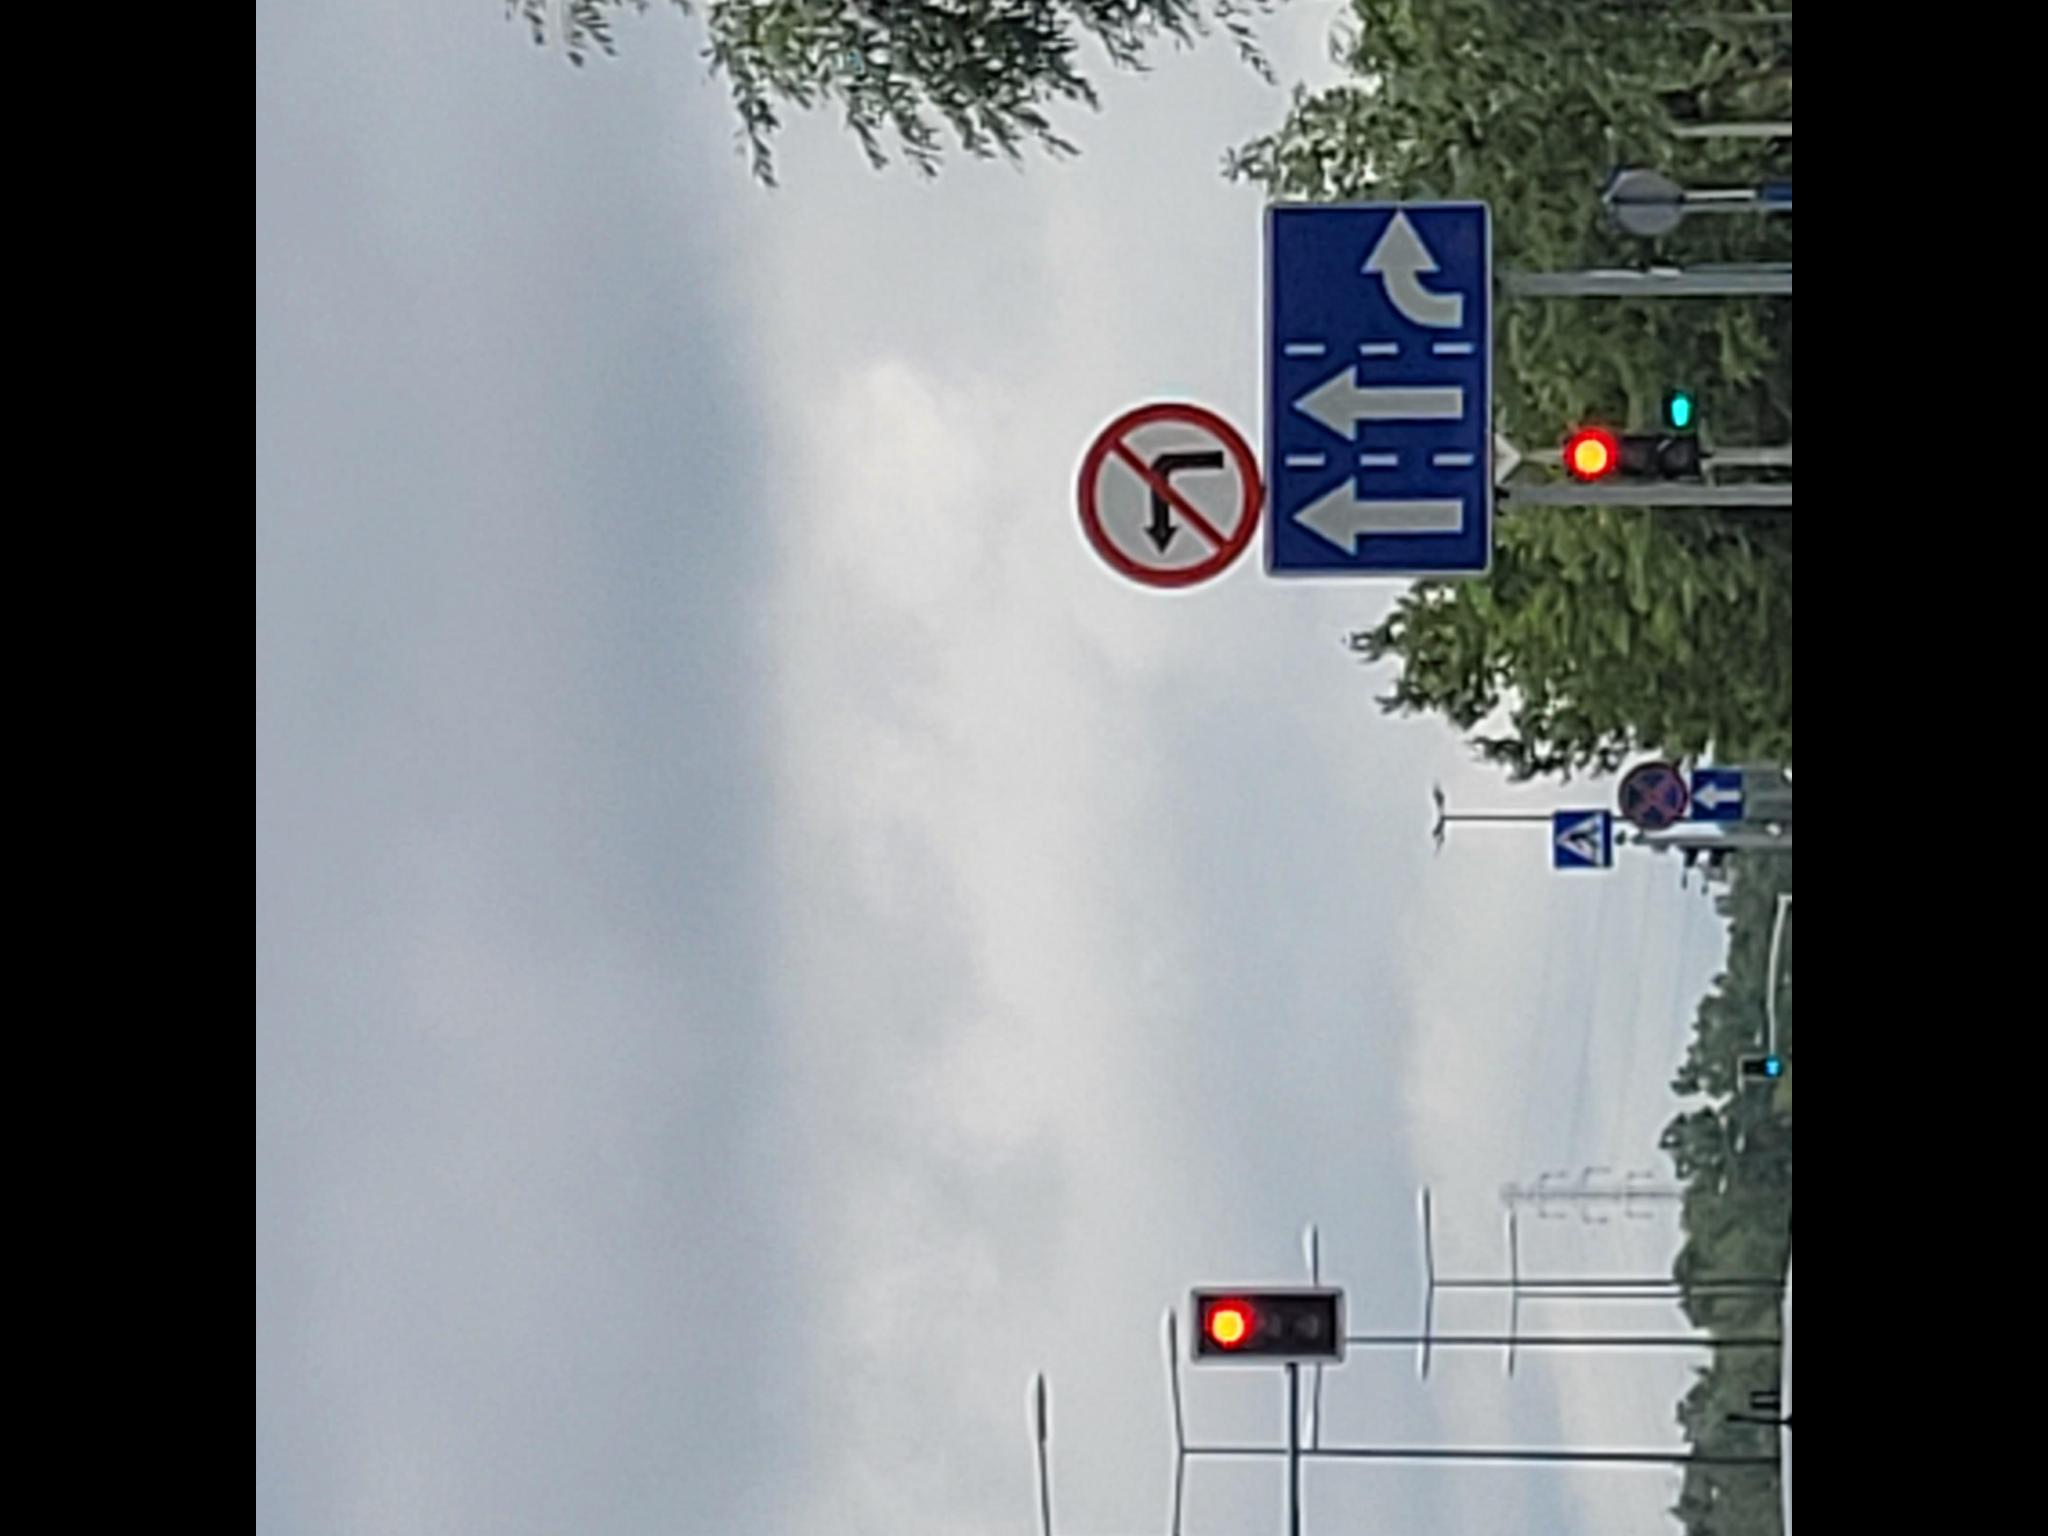information: (1551, 805, 1614, 871), (1687, 765, 1745, 823)
other: (1259, 195, 1498, 576)
prohibitory: (1074, 399, 1264, 589), (1617, 757, 1687, 833)
